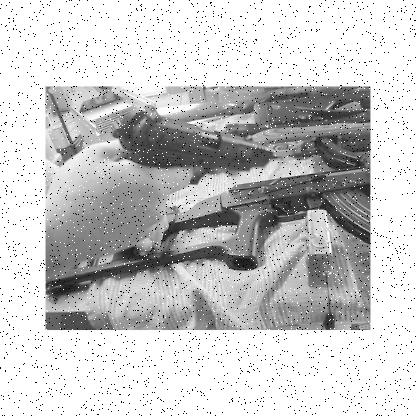gun: (110, 102, 274, 238)
